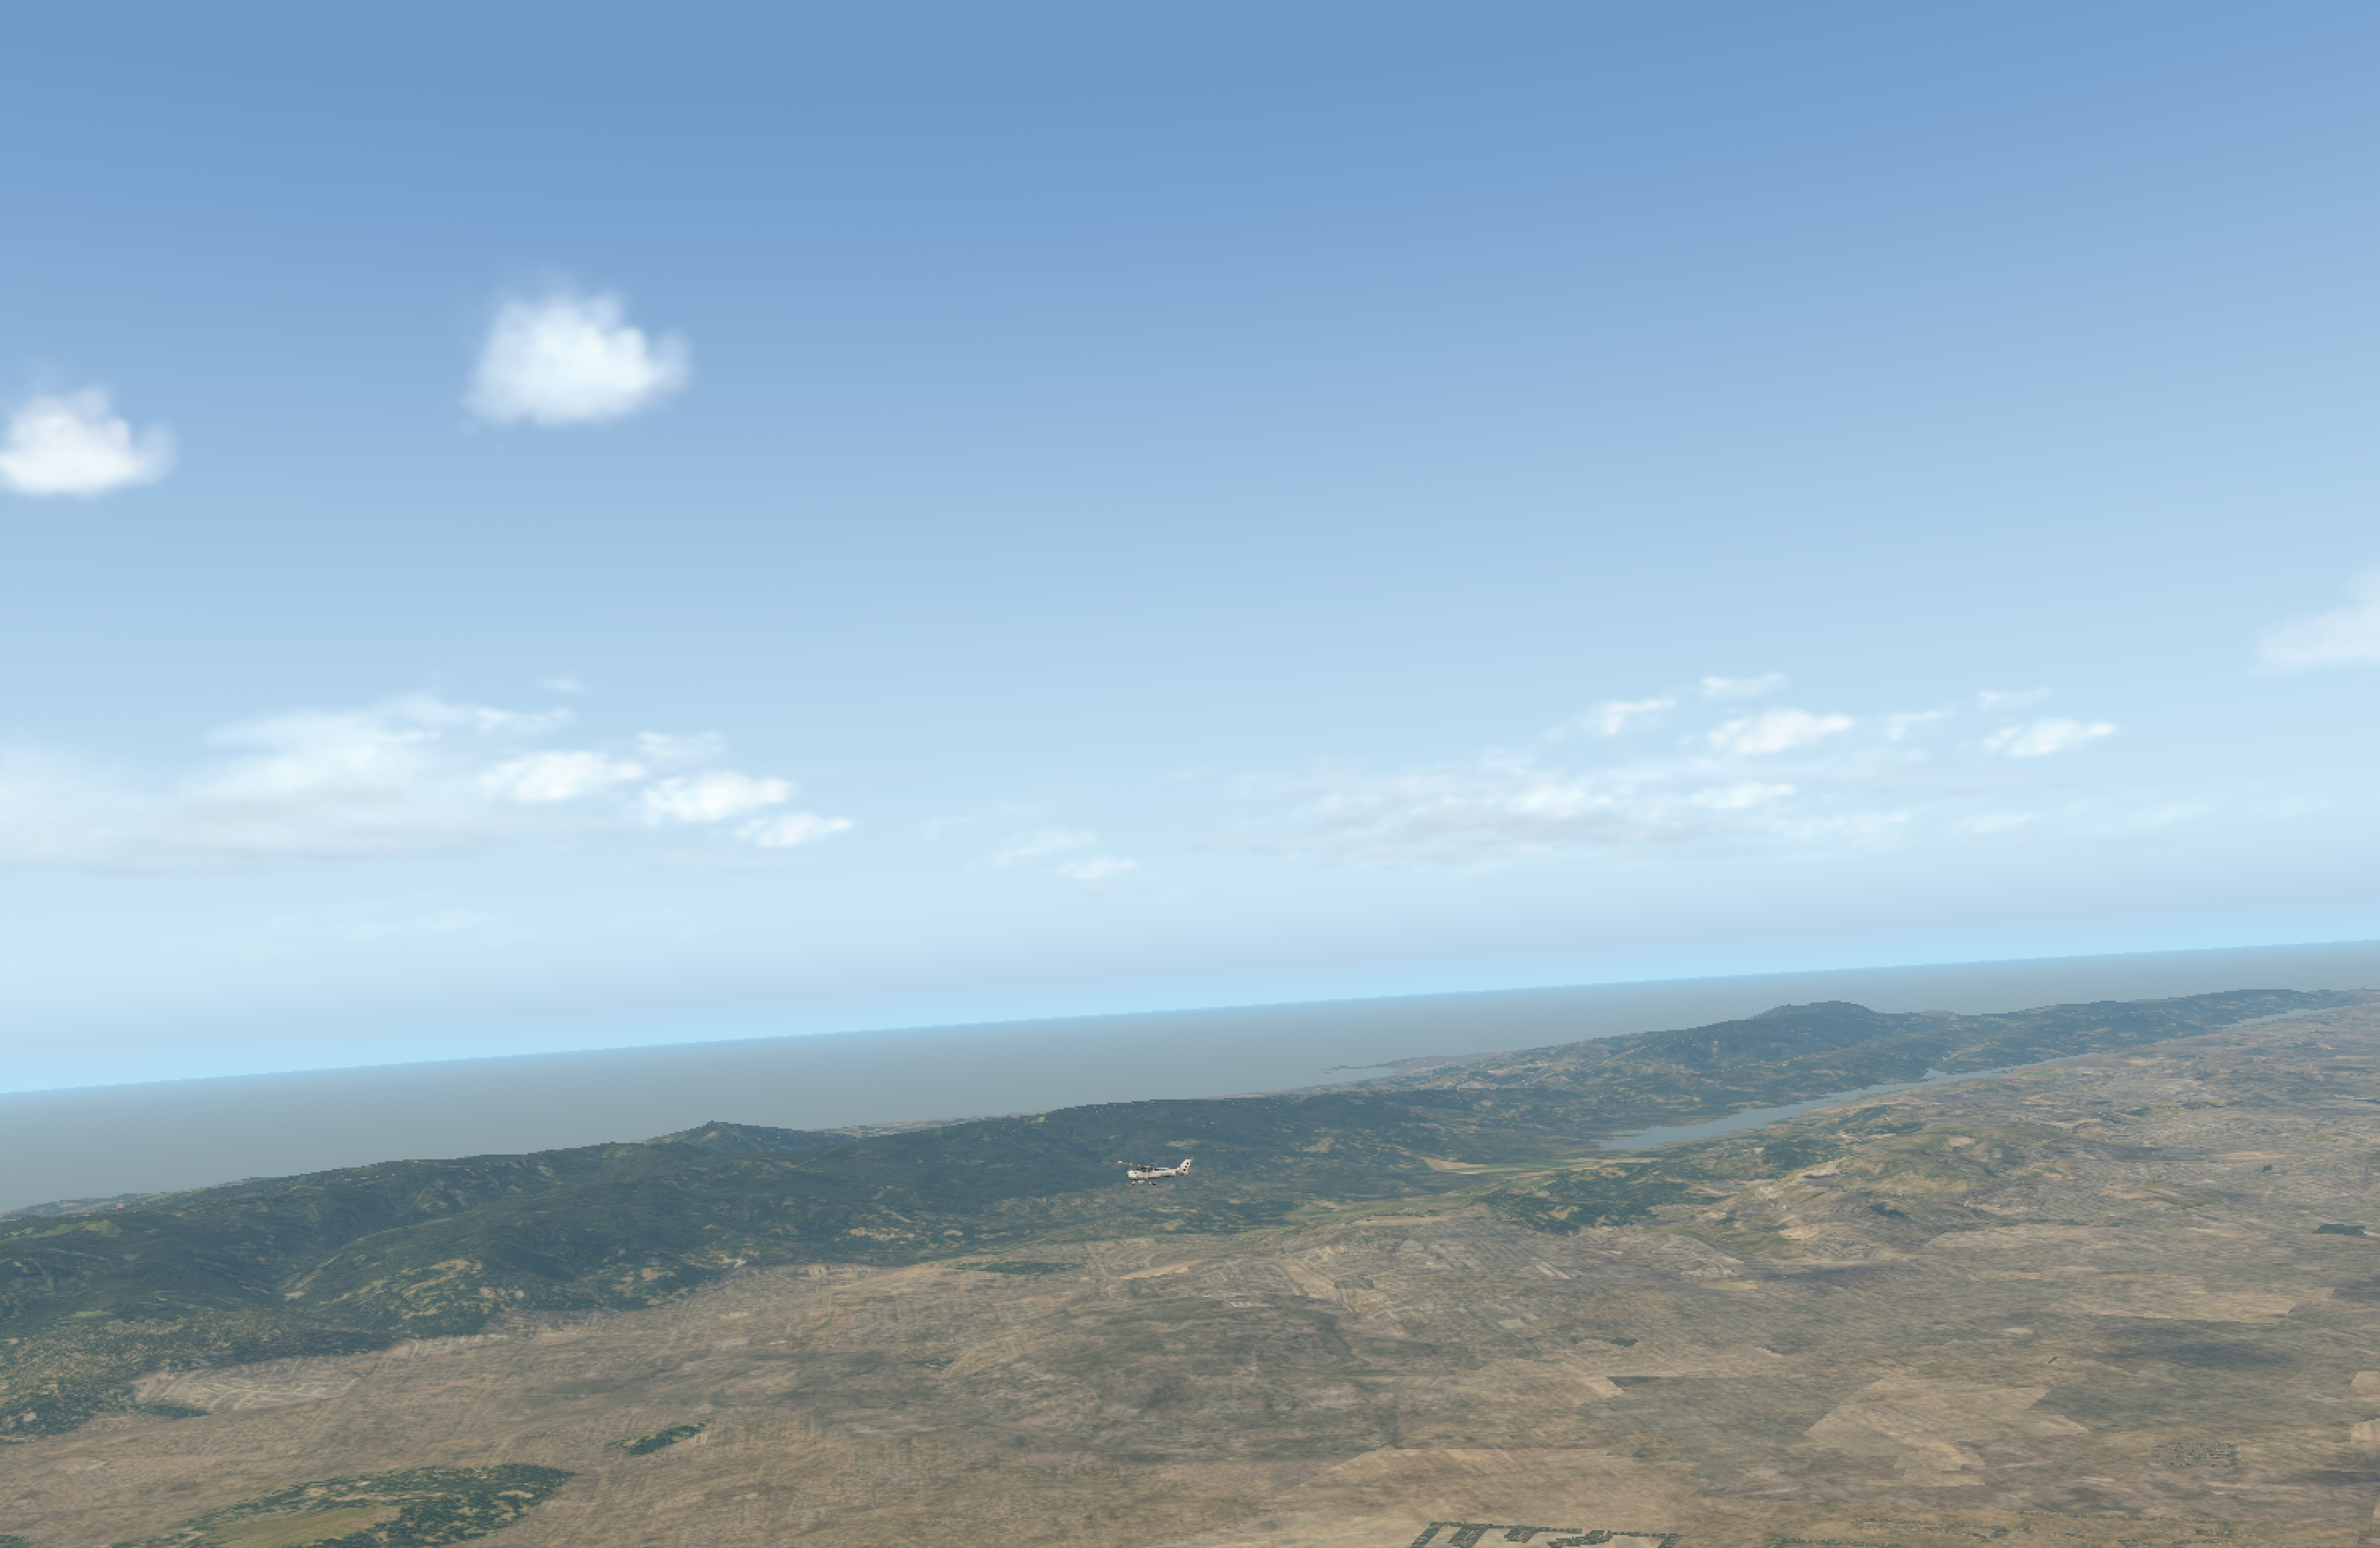aircraft: (1108, 1159, 1181, 1185)
